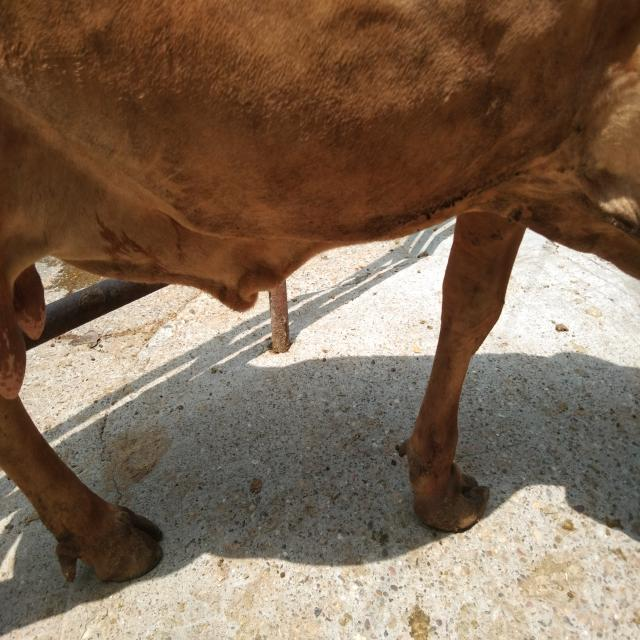Hoof: (55, 502, 163, 584), (412, 462, 490, 533)
